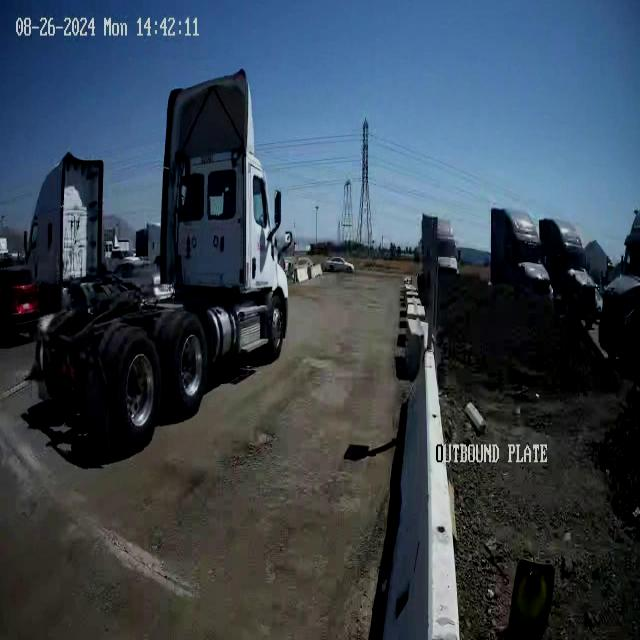BOBTAIL: (34, 67, 292, 457)
